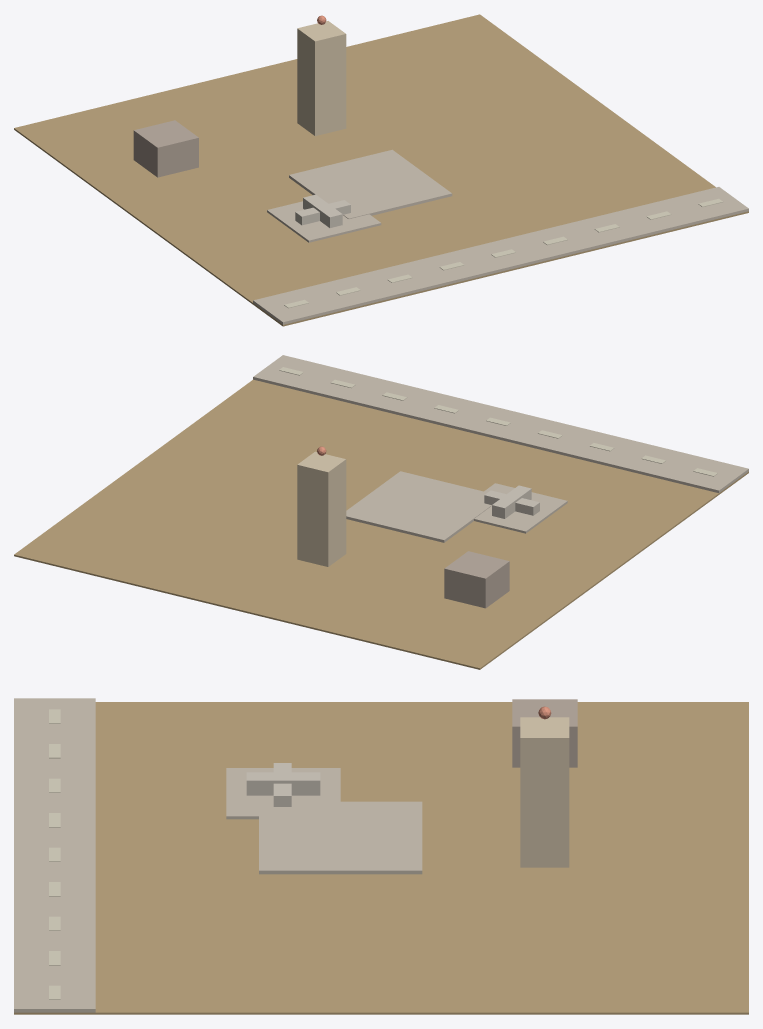
The model's file is stage_04.glb.
3 renders of one model, top to bottom at view 1: azimuth 30°, elevation 25°; view 2: azimuth 150°, elevation 25°; view 3: azimuth 270°, elevation 25°, orthographic. The views are drawn at different scales.
Parts seen in each view (by area): view 1: geometry_0; view 2: geometry_0; view 3: geometry_0.
Boxes of the visible parts, x1,y1,x2,y2 form: geometry_0: [14, 14, 748, 326]; geometry_0: [14, 355, 748, 669]; geometry_0: [14, 698, 748, 1014].
Size of the model in its own units: 9 by 2.06 by 9.
